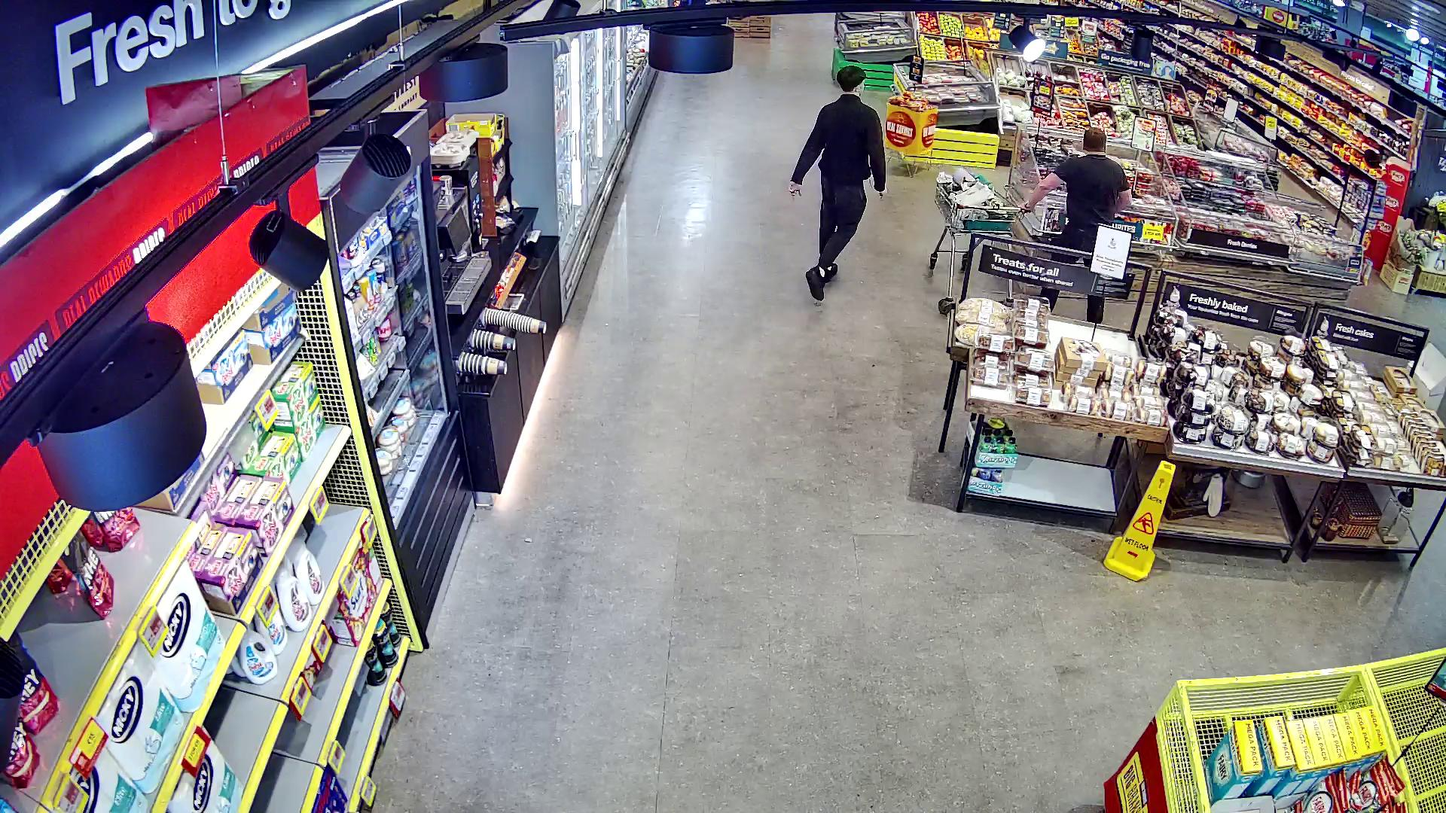filled-trolly: (929, 170, 1024, 314)
person: (1019, 127, 1133, 323)
person-with-filled-basket-trolly: (929, 126, 1133, 324)
